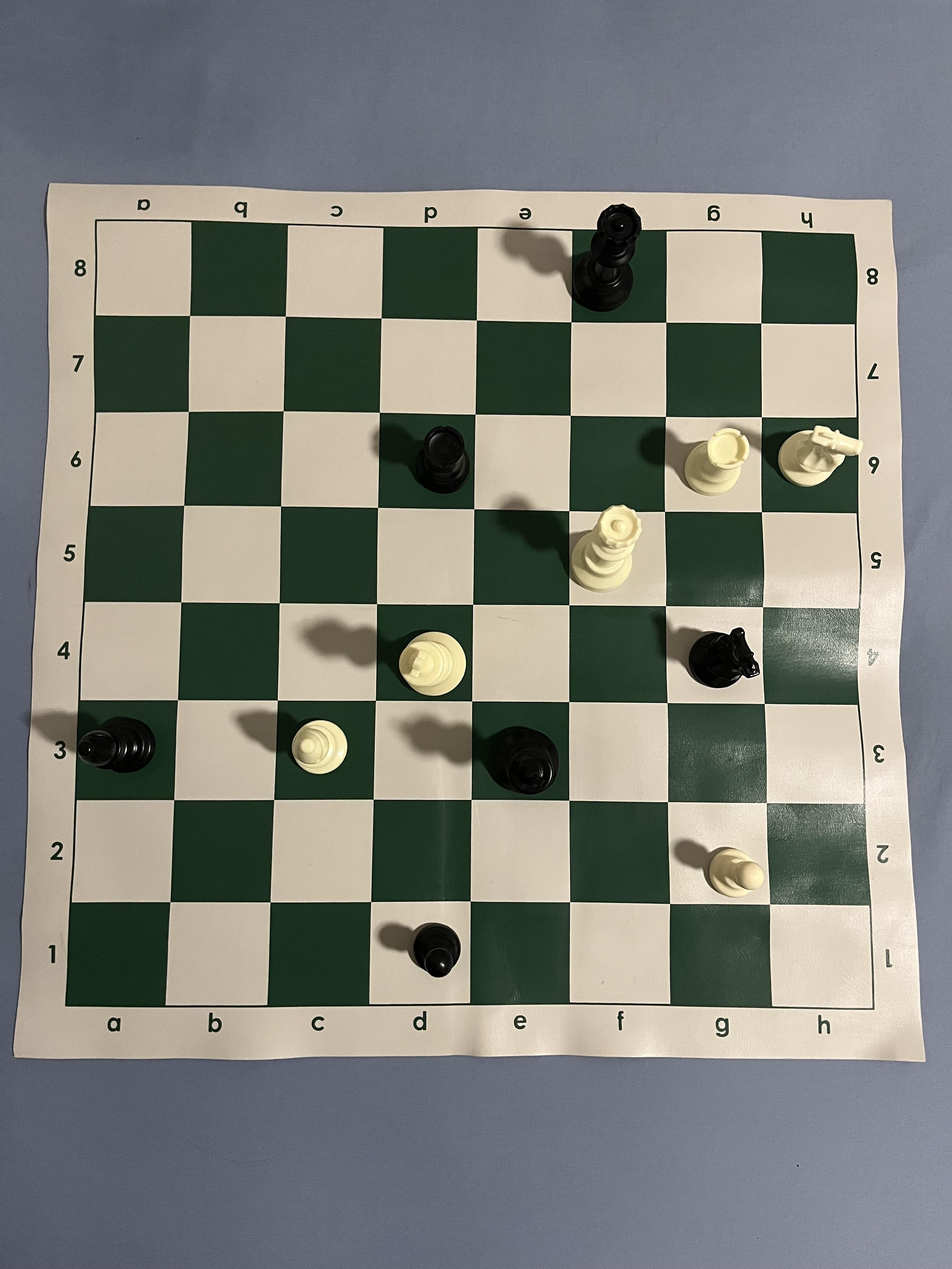black_bishop: (76, 716, 157, 774)
black_king: (489, 725, 560, 796)
black_knight: (688, 627, 760, 688)
black_pawn: (412, 922, 463, 979)
black_queen: (572, 204, 642, 312)
black_rook: (415, 426, 471, 494)
white_bishop: (291, 719, 348, 775)
white_king: (397, 631, 467, 697)
white_knight: (778, 425, 864, 488)
white_pawn: (704, 846, 765, 898)
white_queen: (570, 505, 643, 593)
white_rook: (683, 427, 751, 496)
